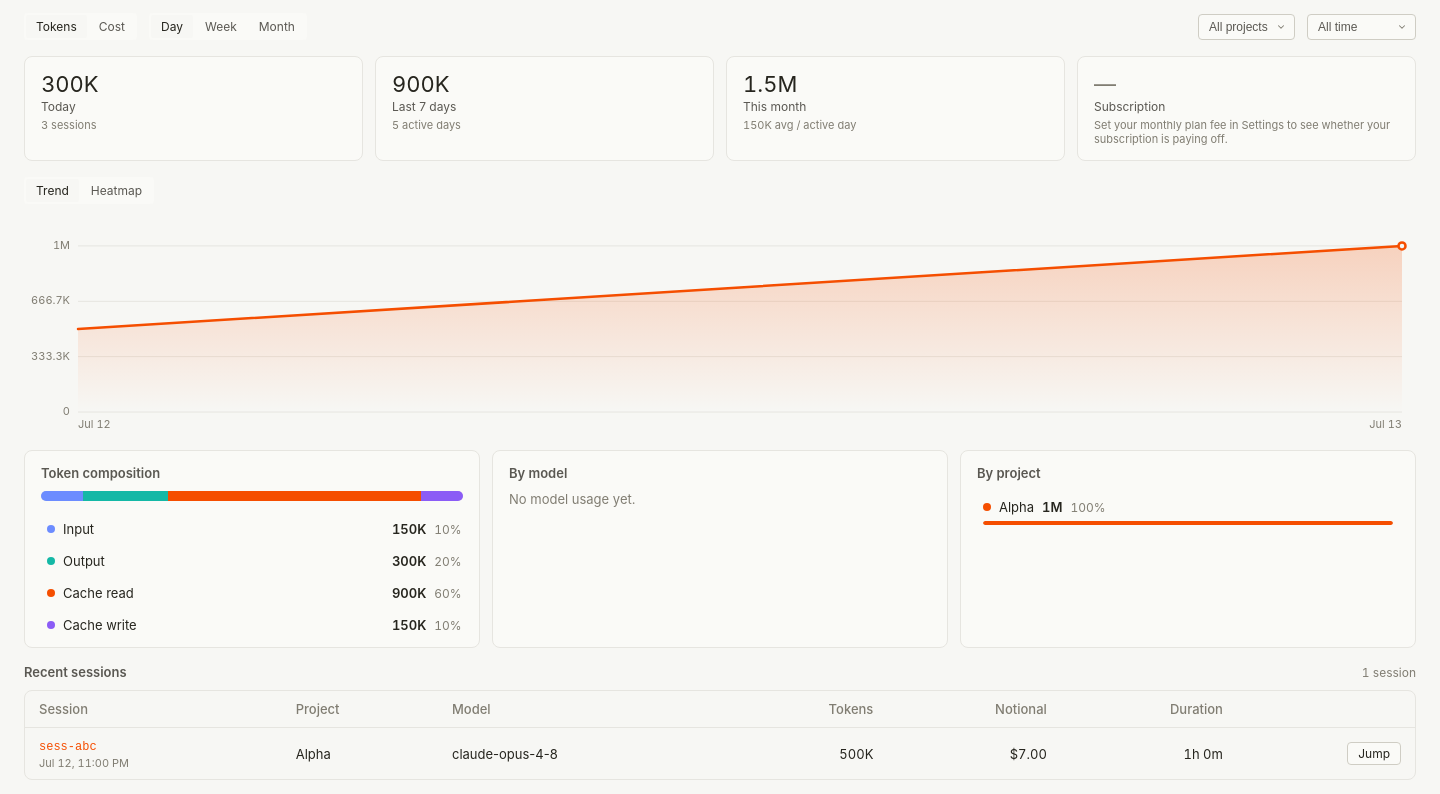
Test: UsageDashboard — by-project + session explorer (Slice 55) › shows a recoverable error (not a stuck spinner) when the summary fetch rejects
# First open: the rejection surfaces an error note rather than hanging on "Loading…".
Click the button "sess-abc": (68, 747) [39,740,97,754]
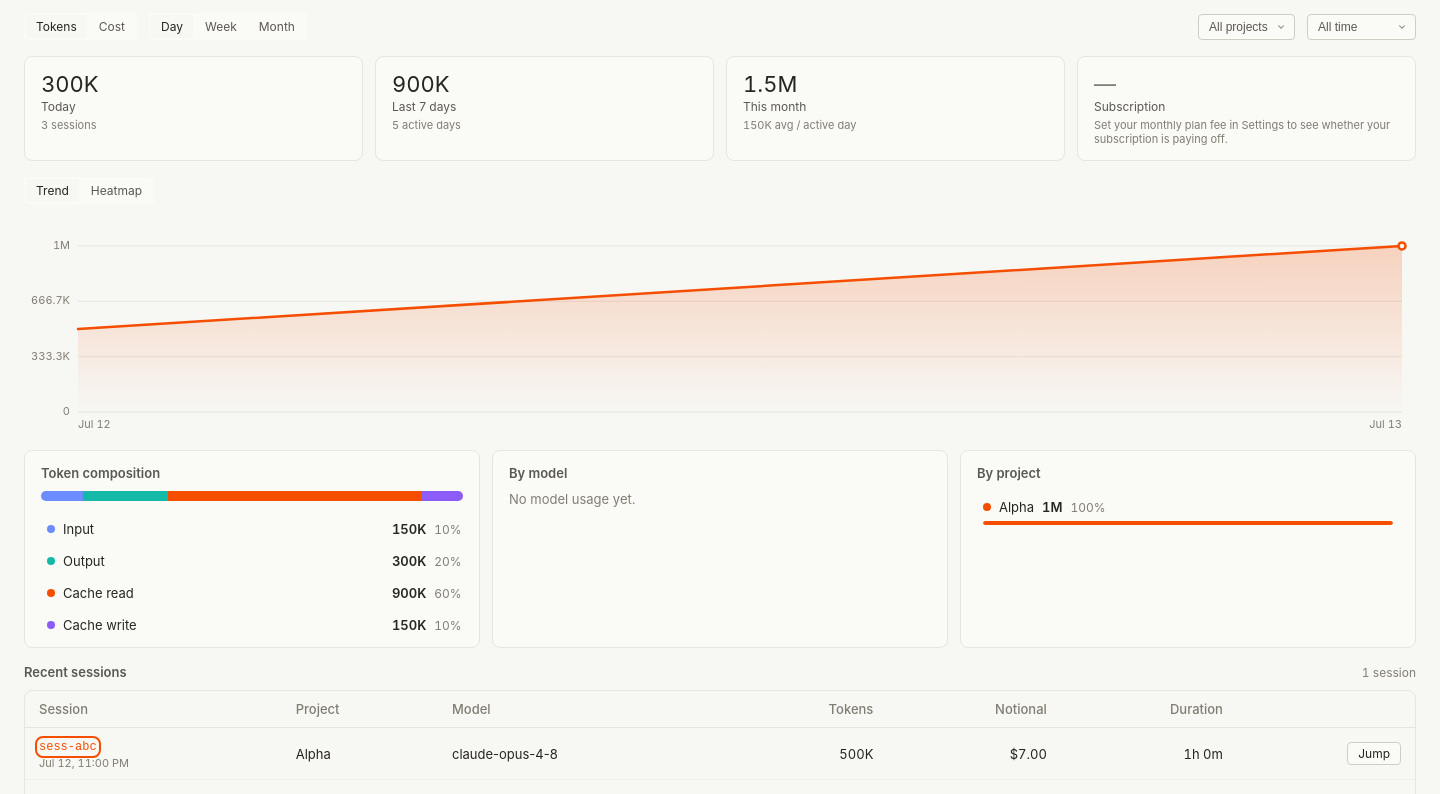
# Reopen retries (the guard lets an errored entry re-fetch) and succeeds.
Click the button "sess-abc": (68, 747) [39,740,97,754]
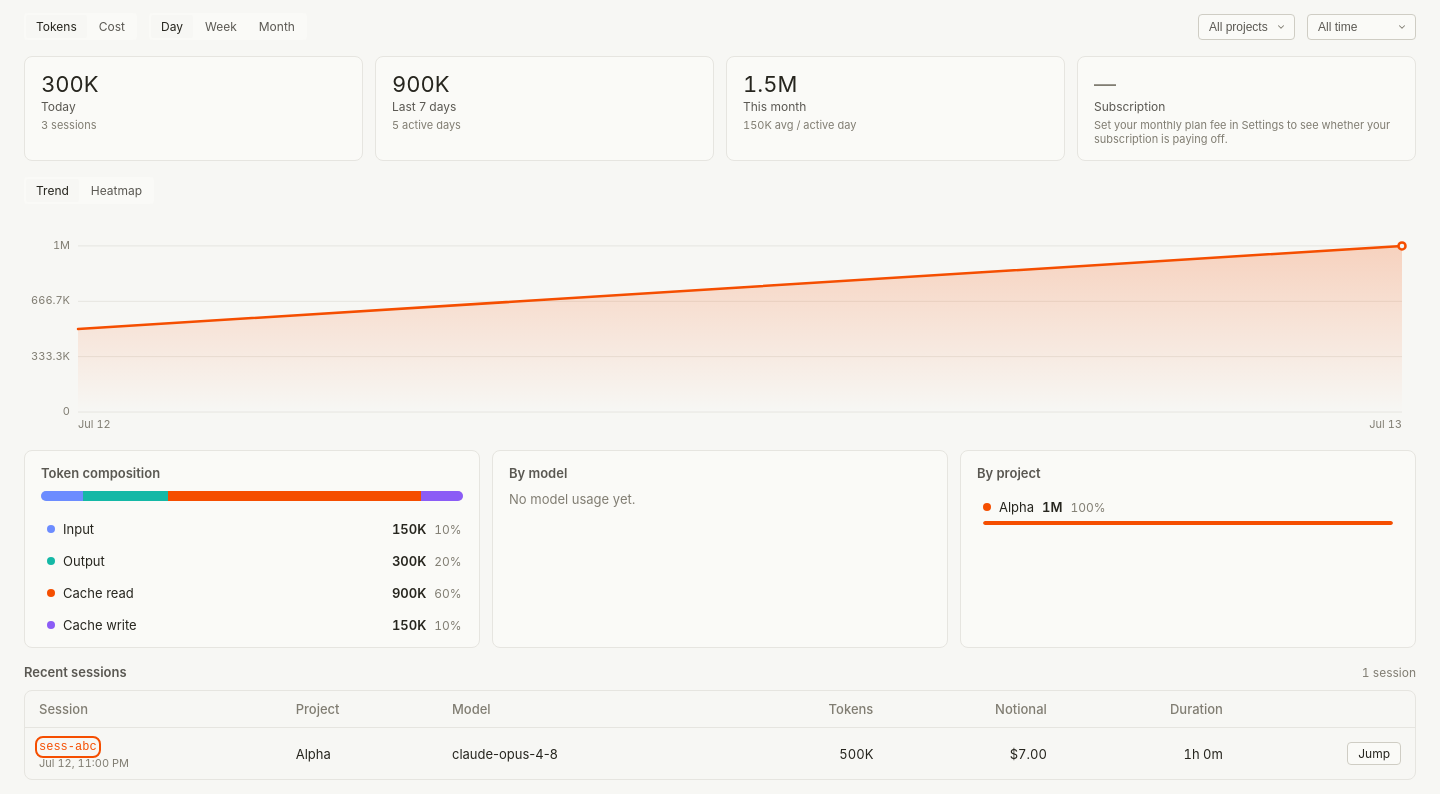
Click the button "sess-abc": (68, 747) [39,740,97,754]
(page scrolled)
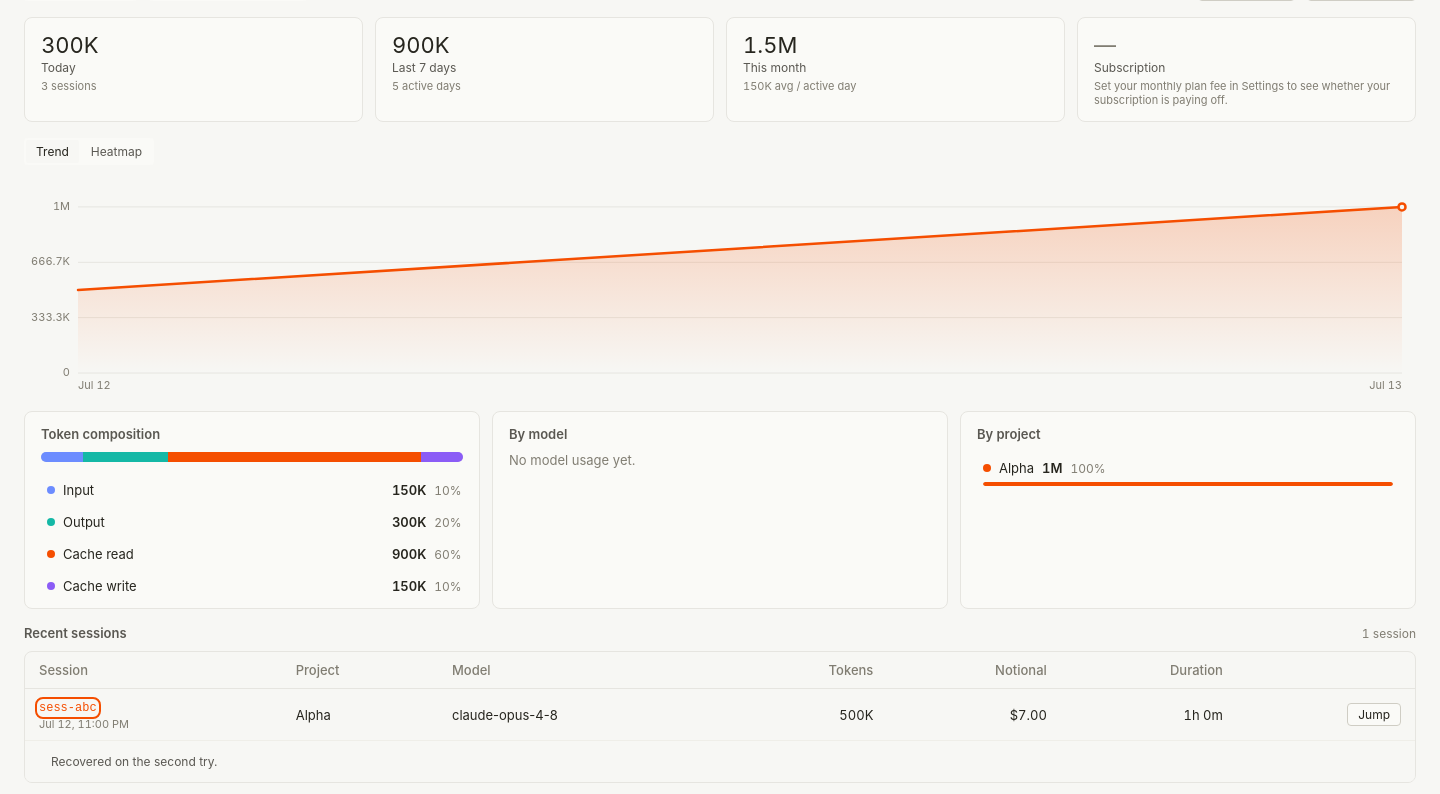
Result: the text "Recovered on the second try." is shown at [51,754,218,769]
